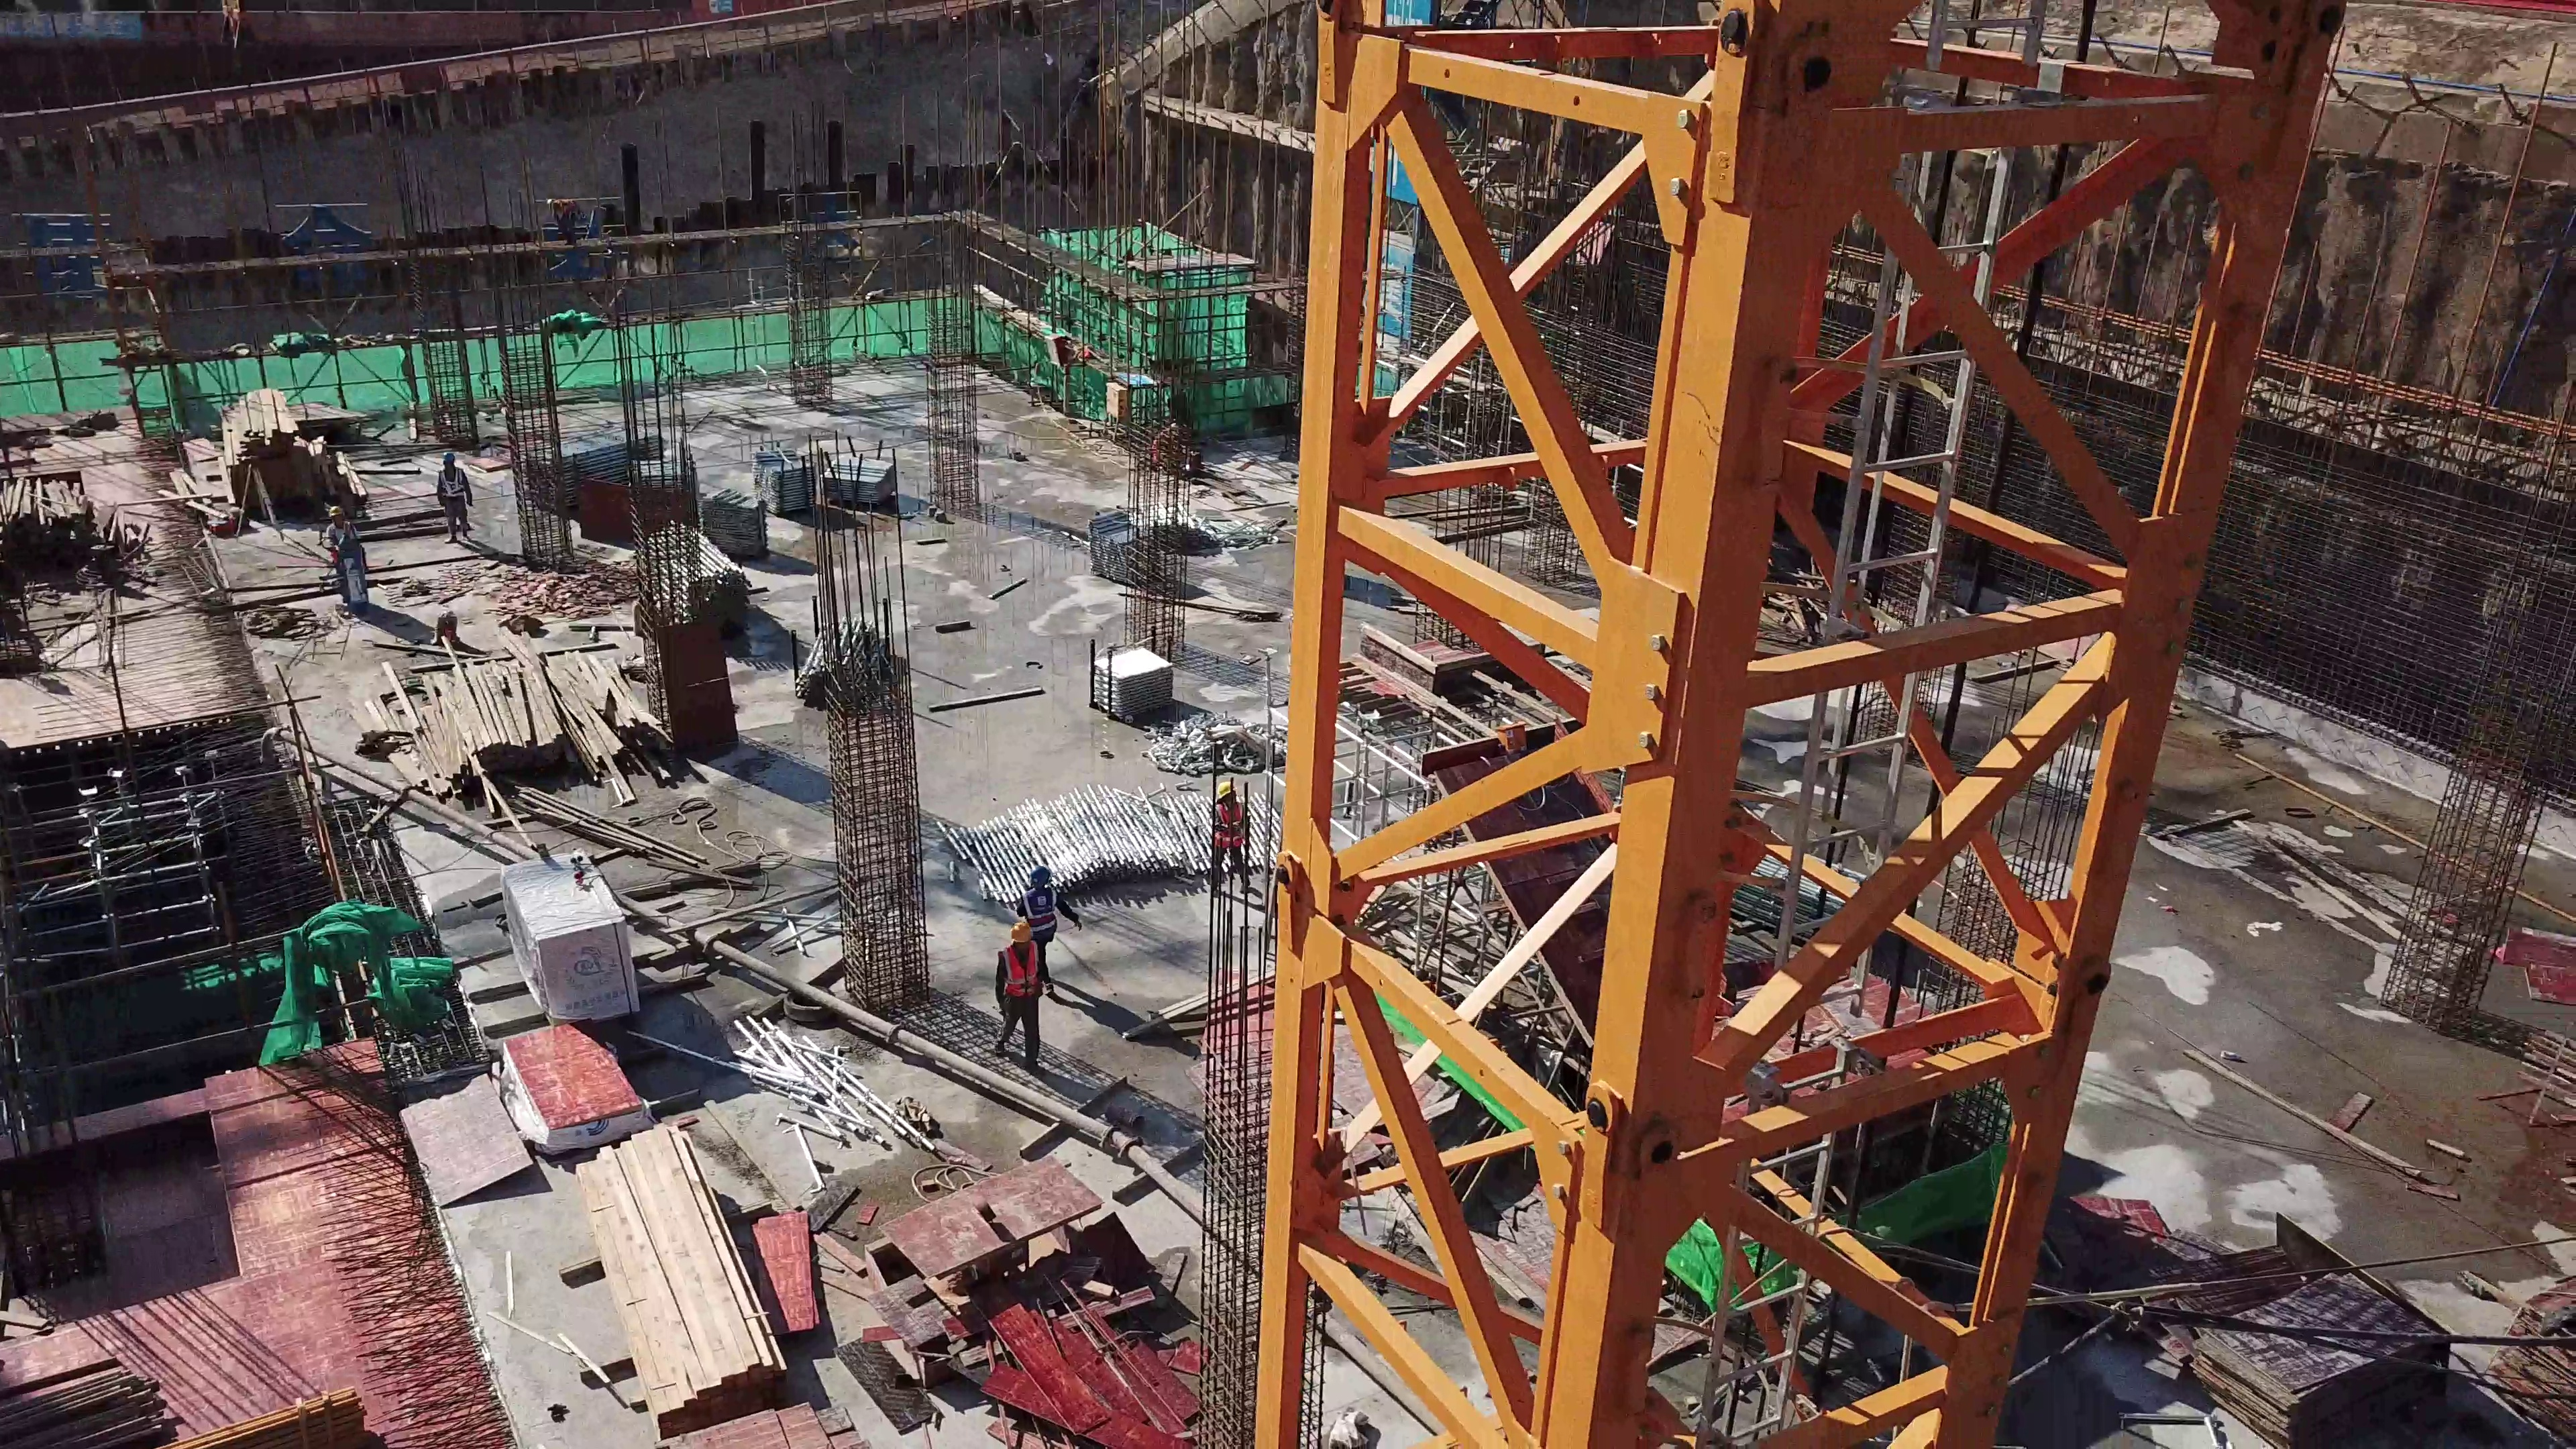board: (2186, 1257, 2412, 1433), (1018, 1305, 1192, 1438), (525, 1038, 626, 1136)
fence: (7, 1, 908, 140)
helmet: (1003, 922, 1033, 943), (1026, 867, 1048, 887), (1215, 781, 1238, 796), (328, 504, 347, 520), (441, 453, 457, 466)
person: (991, 925, 1055, 1074), (1018, 857, 1079, 989), (310, 504, 377, 609), (1203, 780, 1258, 906), (433, 454, 475, 542), (544, 194, 583, 244)
scaffold: (961, 798, 1193, 885), (640, 526, 753, 637), (525, 429, 657, 512), (796, 615, 897, 714), (1091, 637, 1182, 720), (694, 493, 767, 561), (1079, 510, 1140, 587), (821, 452, 902, 511), (751, 443, 813, 513)
slogan: (1, 203, 385, 291)
vest: (998, 944, 1043, 996), (1024, 890, 1057, 933), (1214, 802, 1244, 845), (329, 524, 356, 555), (439, 472, 466, 502)
wood: (568, 1136, 798, 1397), (396, 665, 664, 782), (213, 389, 307, 488)
